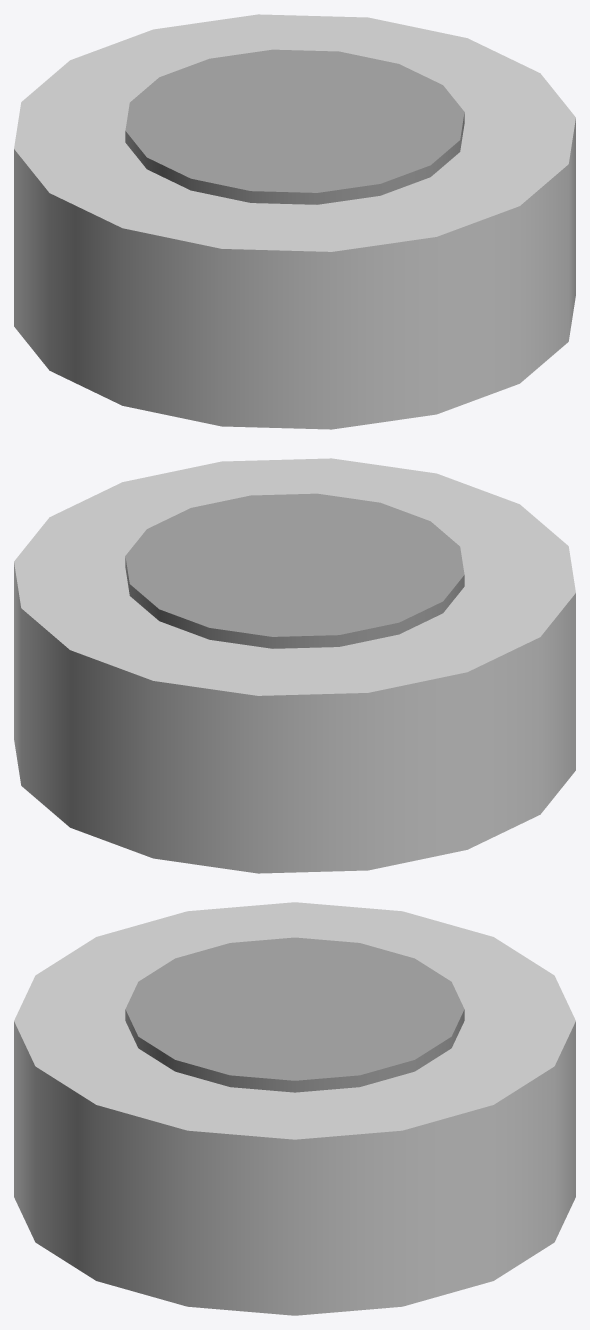
File: Duongnoi2.fbx
3 views of the same model, one above another, from view 1: azimuth 30°, elevation 25°; view 2: azimuth 150°, elevation 25°; view 3: azimuth 270°, elevation 25° (orthographic).
Parts seen in each view (by area): view 1: polySurface6, polySurface7; view 2: polySurface6, polySurface7; view 3: polySurface6, polySurface7.
Boxes of the visible parts, x1=… form: polySurface6: x1=14, y1=14, x2=575, y2=429; polySurface7: x1=125, y1=49, x2=464, y2=204; polySurface6: x1=14, y1=458, x2=575, y2=873; polySurface7: x1=125, y1=493, x2=464, y2=648; polySurface6: x1=14, y1=902, x2=575, y2=1315; polySurface7: x1=125, y1=937, x2=464, y2=1092.
Bounding box in the file's own units: 683 × 252 × 683.
